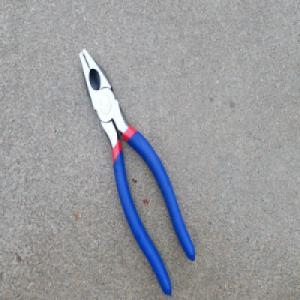Pliers: (79, 46, 196, 293)
